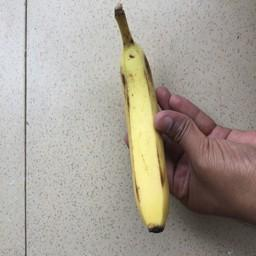Banana Ripe: (103, 1, 180, 251)
